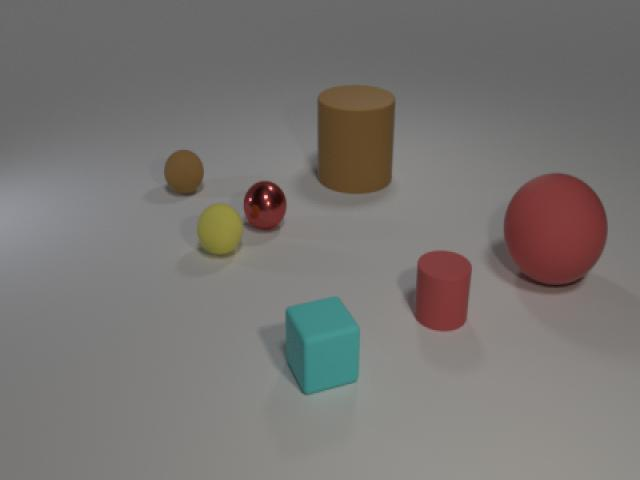cylinder: (310, 79, 406, 200), (409, 244, 478, 336)
round ball: (499, 164, 613, 292), (242, 174, 292, 236), (193, 201, 244, 259), (162, 144, 206, 202)
